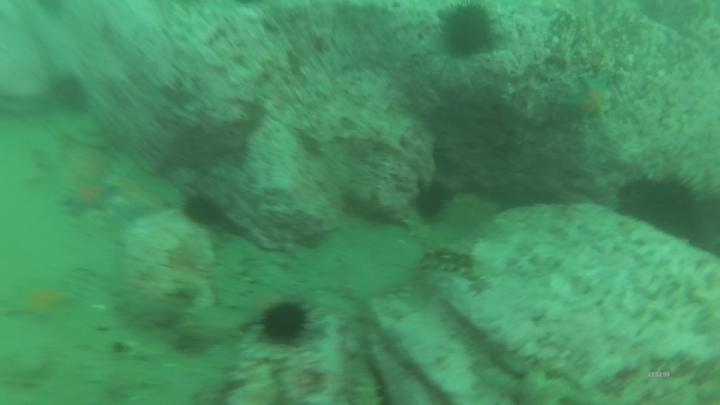echinus: (646, 180, 702, 234), (448, 7, 494, 57), (263, 304, 307, 343), (187, 191, 223, 229), (51, 78, 84, 111)
holothurian: (421, 244, 486, 283), (355, 377, 382, 405)
scallop: (118, 341, 151, 357), (93, 303, 109, 316)
starfish: (572, 72, 614, 122), (70, 179, 110, 212), (25, 286, 68, 316)
